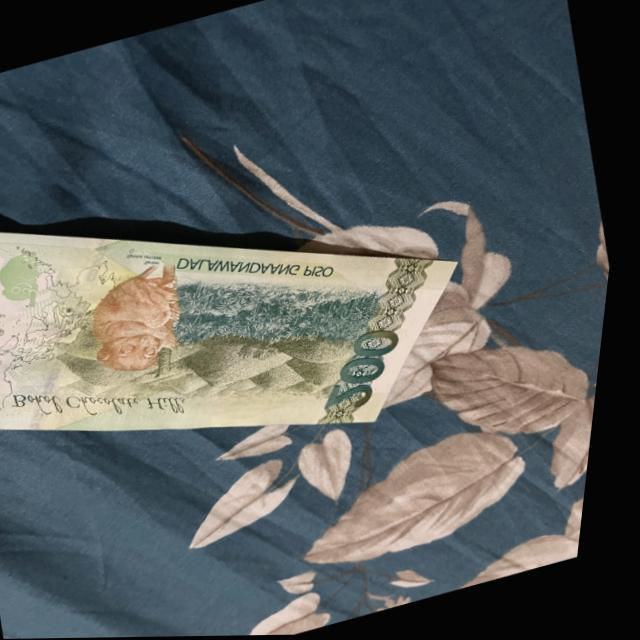security_thread: (35, 239, 121, 431)
value: (329, 331, 413, 413)
